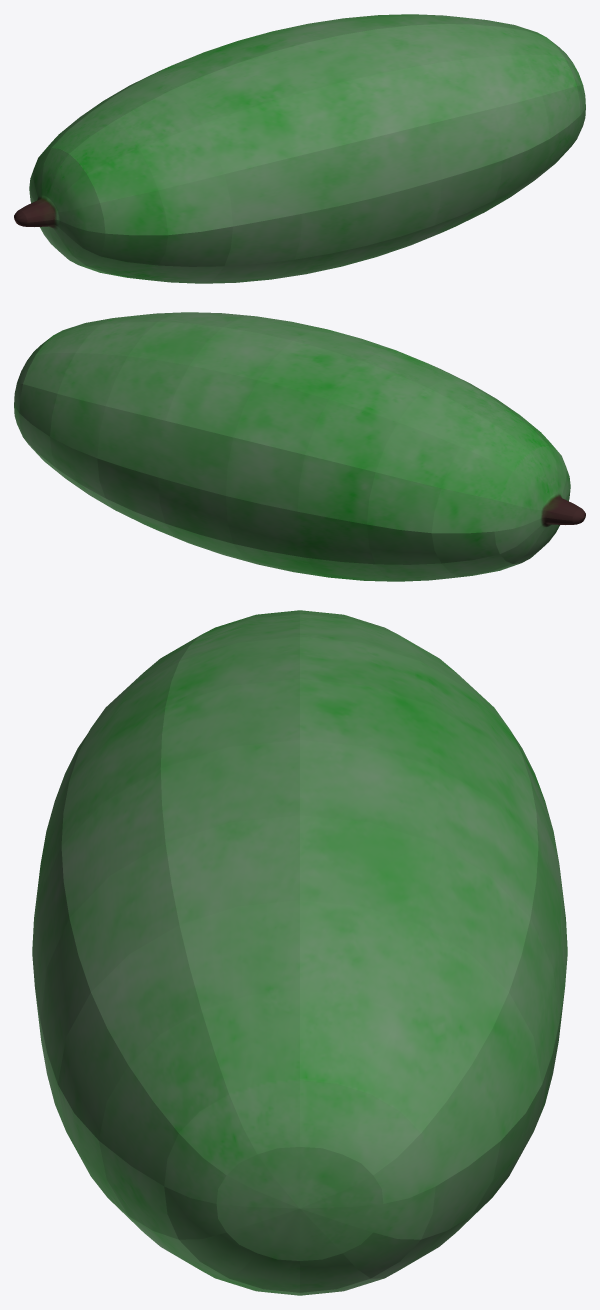
File: Kundol.glb
3 renders of one model, top to bottom at view 1: azimuth 30°, elevation 25°; view 2: azimuth 150°, elevation 25°; view 3: azimuth 270°, elevation 25°, orthographic. The views are drawn at different scales.
Visible parts, largest first — view 1: pSphere1; view 2: pSphere1; view 3: pSphere1.
Part boxes in pixels (x1,y1,x2,y2): pSphere1: (14,14,585,283); pSphere1: (14,312,585,581); pSphere1: (32,610,567,1295).
Size of the model in its own units: 2.01 by 0.7376 by 0.8414.
Materials: 1 (1 with a texture image).
